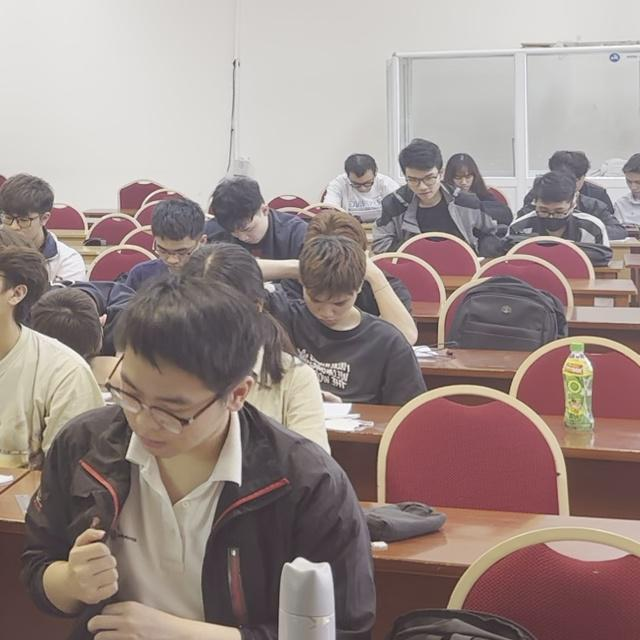Looking away: (121, 362, 195, 456), (305, 293, 352, 325), (155, 239, 190, 271), (409, 169, 438, 200), (539, 201, 565, 229), (232, 224, 265, 242), (625, 175, 640, 199), (351, 177, 373, 192), (456, 176, 472, 192)
